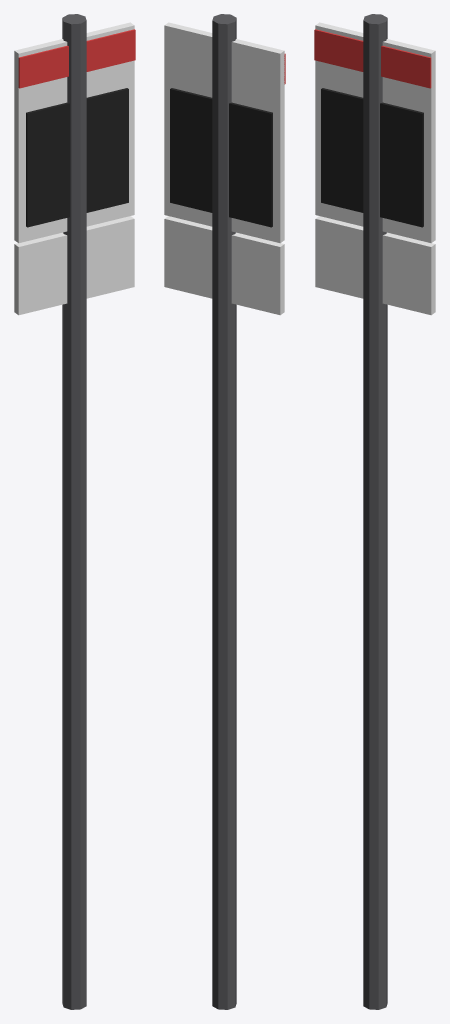
The model's file is muni_stop_pole.glb.
The picture shows the model from 3 angles, left to right: view 1: azimuth 30°, elevation 25°; view 2: azimuth 150°, elevation 25°; view 3: azimuth 330°, elevation 25°; orthographic projection.
Visible parts, largest first — view 1: muni_stop_pole, sign_face; view 2: muni_stop_pole, sign_face; view 3: muni_stop_pole, sign_face.
Part boxes in pixels (x1=…): muni_stop_pole: x1=14, y1=14, x2=135, y2=1009; sign_face: x1=26, y1=88, x2=128, y2=227; muni_stop_pole: x1=164, y1=14, x2=285, y2=1009; sign_face: x1=170, y1=88, x2=272, y2=227; muni_stop_pole: x1=314, y1=14, x2=435, y2=1009; sign_face: x1=321, y1=88, x2=423, y2=227.
Bounding box in the file's own units: 0.32 × 2.6 × 0.06.
